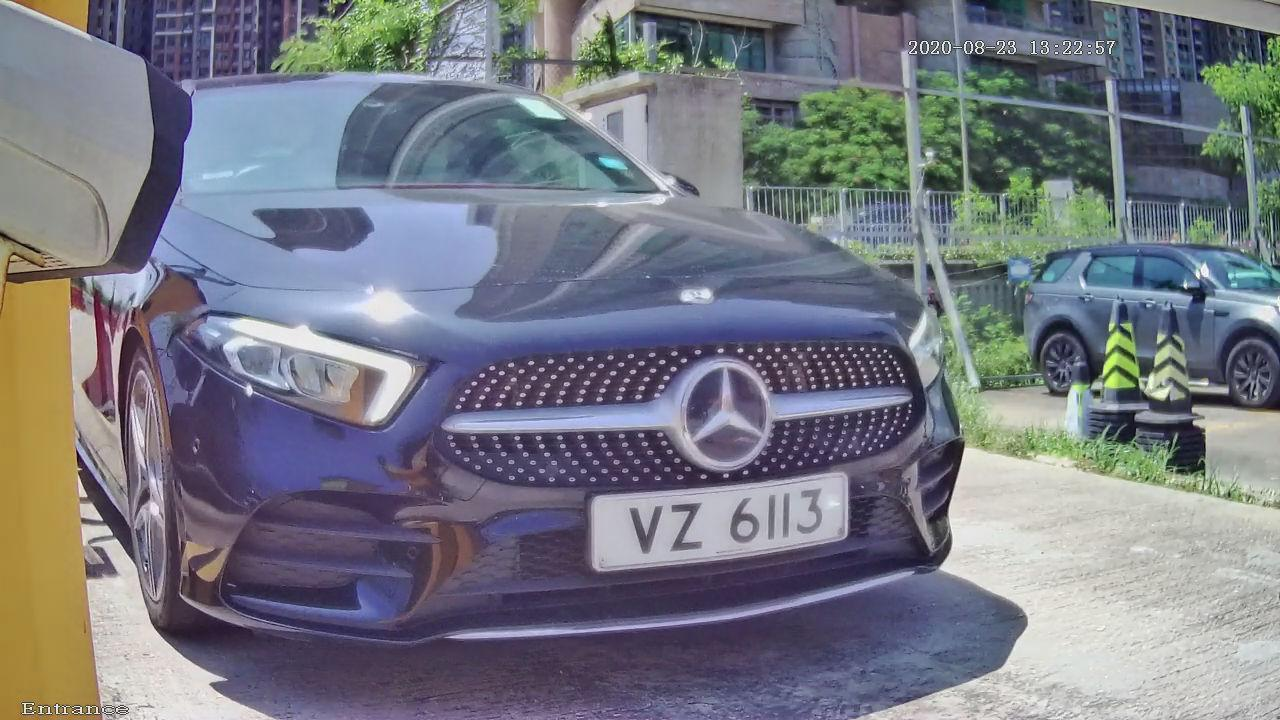Car: (69, 20, 1052, 708)
License Plate: (491, 400, 895, 642)
